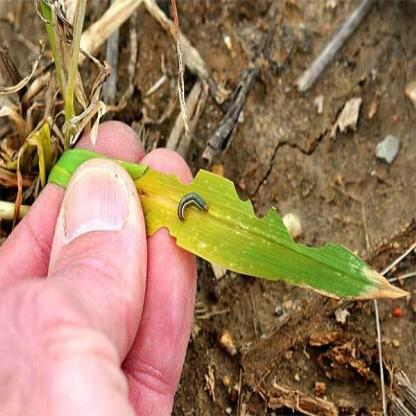armyworm: (176, 186, 210, 228)
